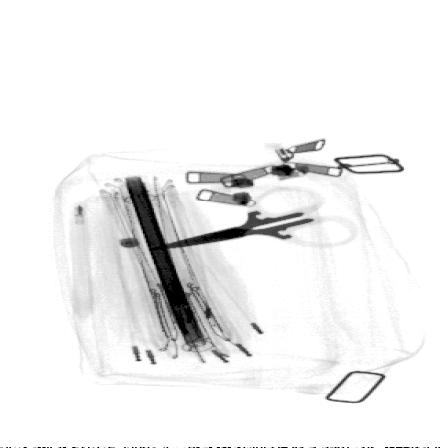Scissors: (144, 187, 361, 250)
